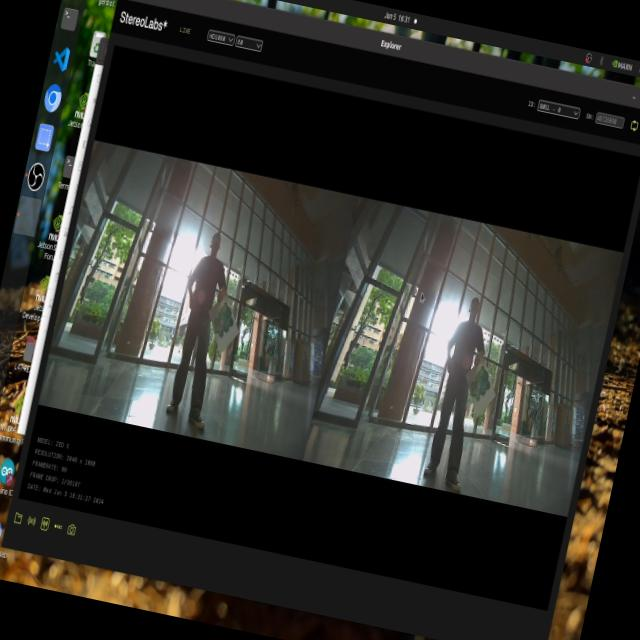green: (464, 357, 498, 407), (210, 296, 240, 344)
